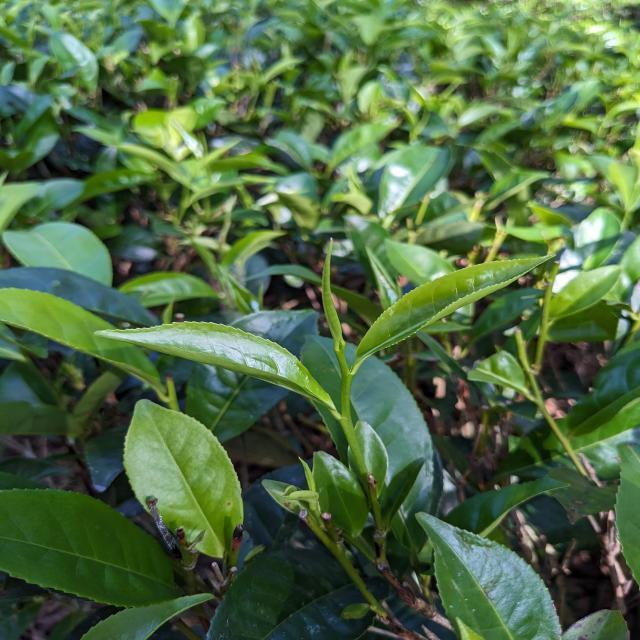Stem: (340, 373, 354, 391)
